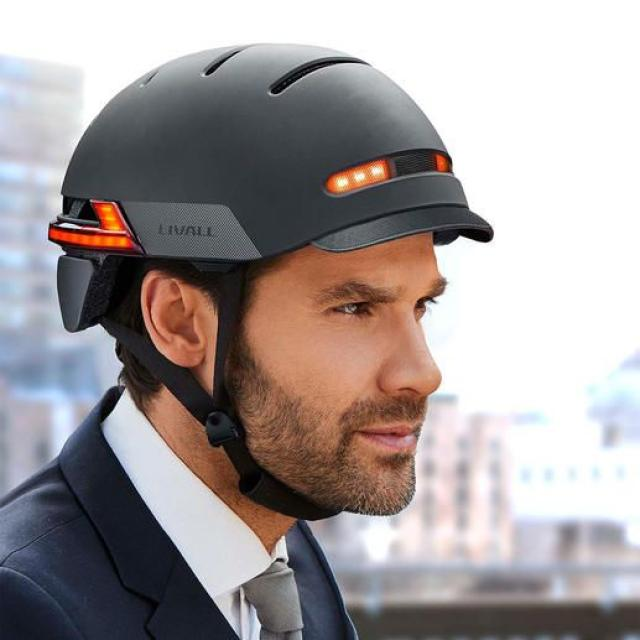Helmet: (49, 42, 496, 517)
